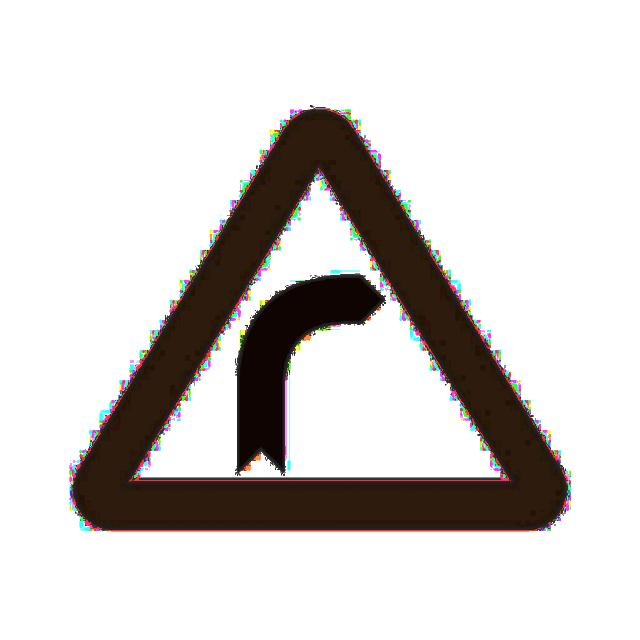rightbend: (73, 110, 569, 534)
